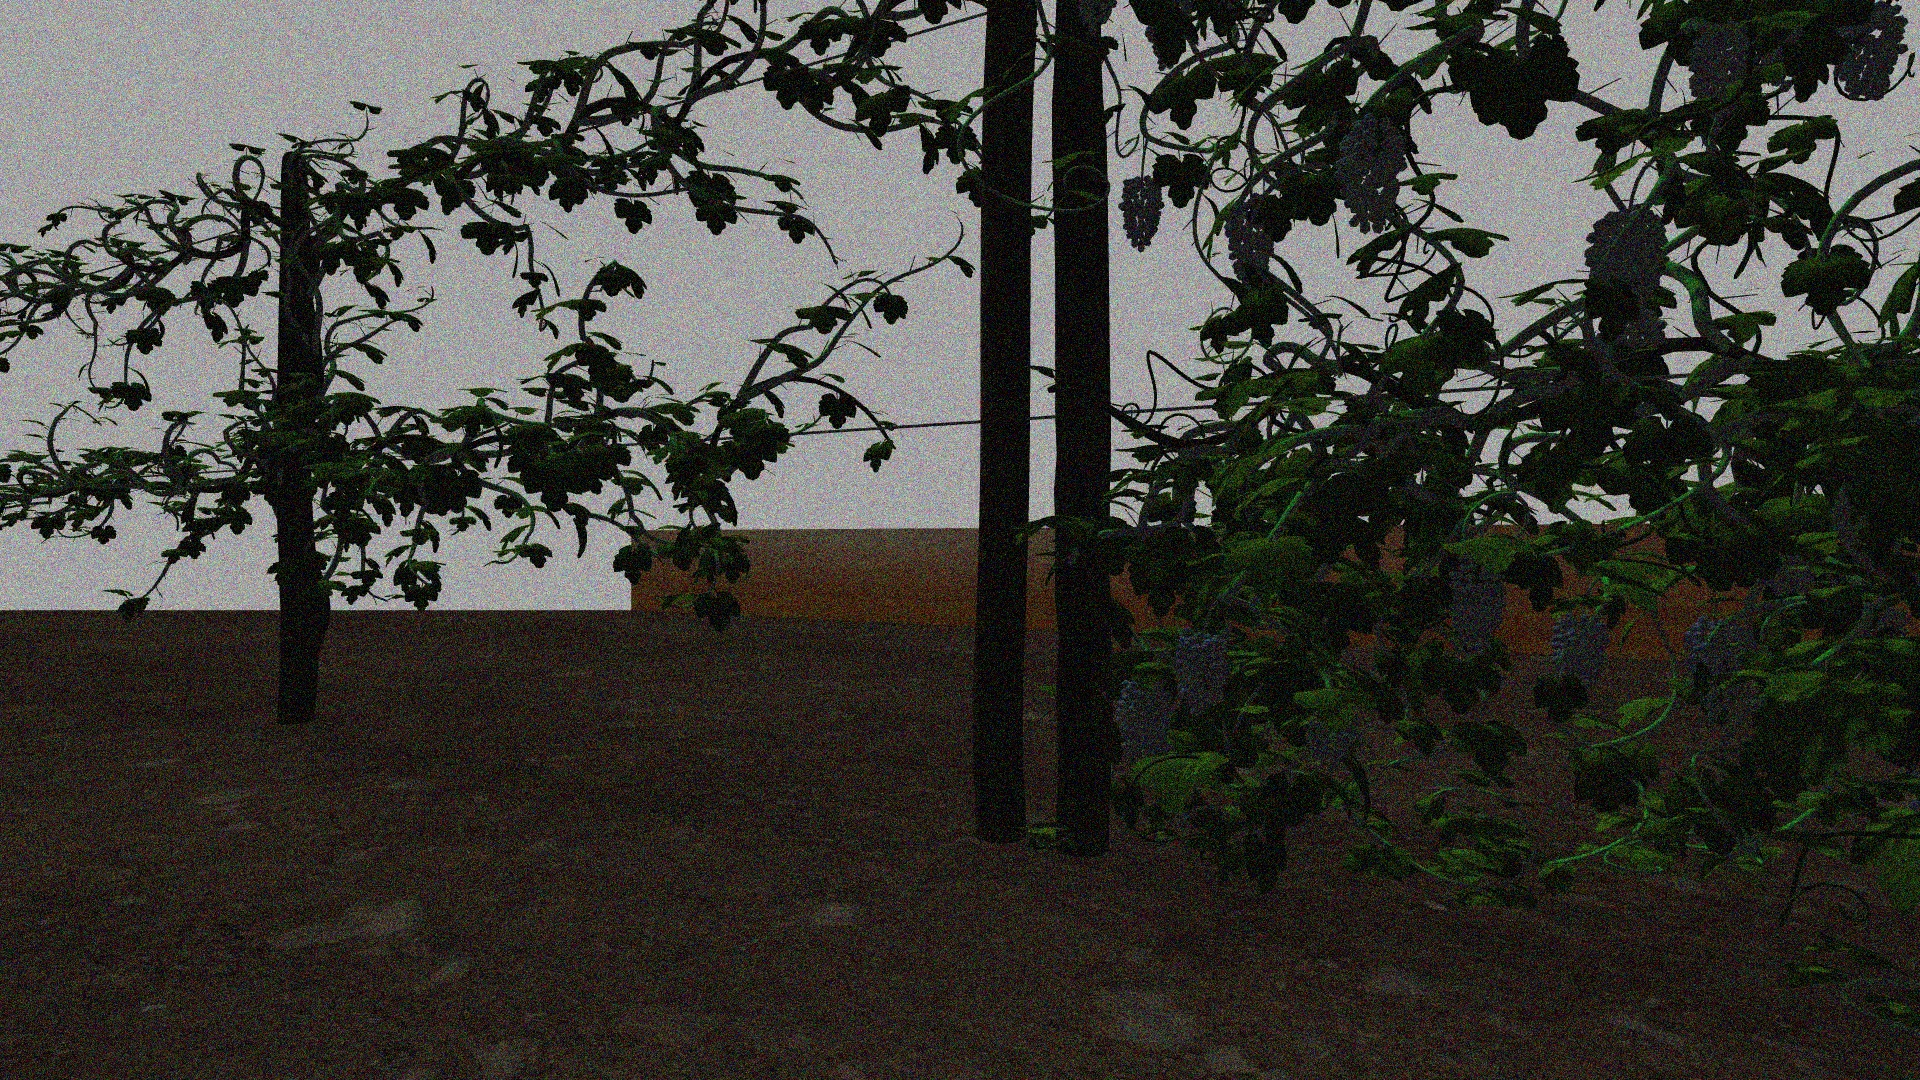grape: (1581, 204, 1669, 318), (1333, 113, 1404, 235), (1683, 615, 1749, 720), (1447, 556, 1511, 657), (1844, 4, 1907, 100), (1174, 629, 1233, 717), (1222, 194, 1278, 286), (1549, 612, 1611, 694), (1687, 28, 1750, 102), (1117, 678, 1171, 762), (1118, 175, 1168, 251), (1308, 708, 1361, 774)
